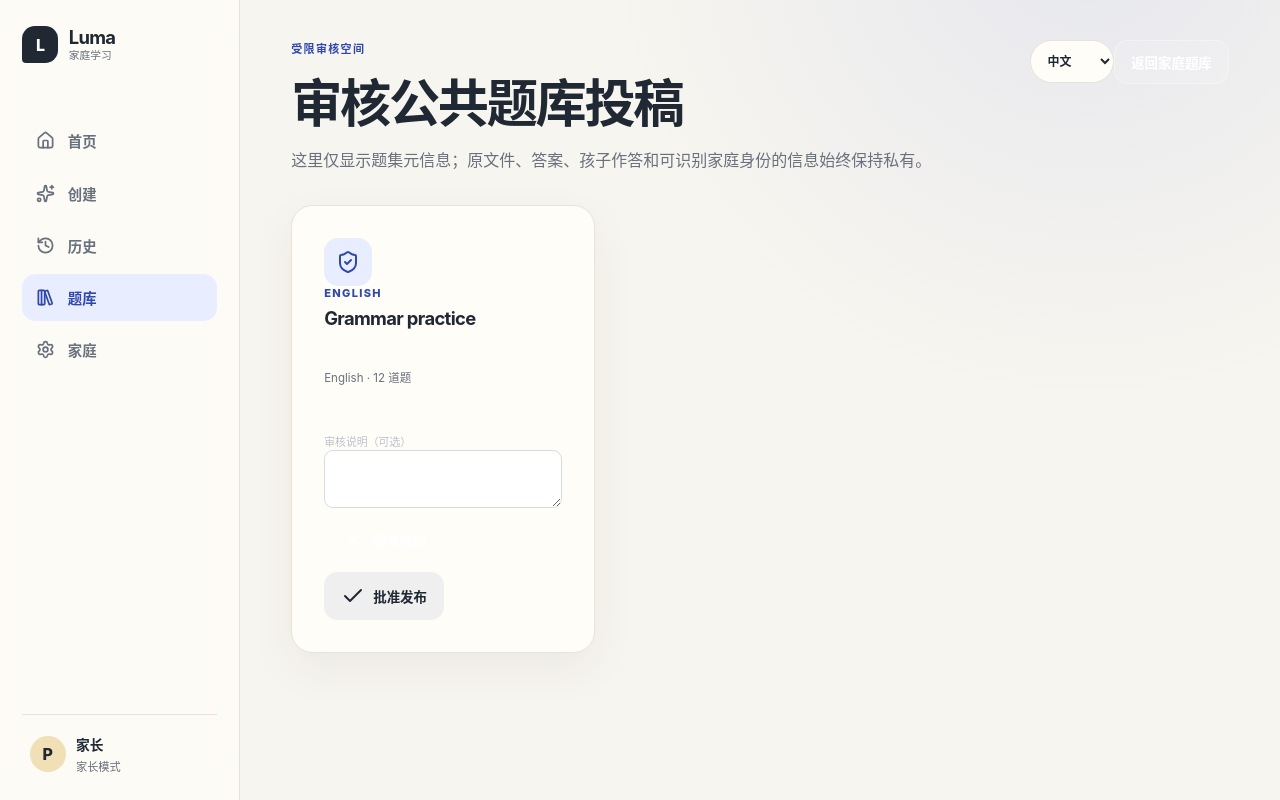
Test case: LibraryReviewPage › only presents reviewer-safe metadata and approves once
Expected: the heading "Grammar practice" is shown, [324,307,476,329]
Expected: the text "English · 12 道题" is shown, [324,371,411,385]
Type "适合公开。" into the text box labelled "审核说明（可选）" at (443, 479), box [324,450,562,508]
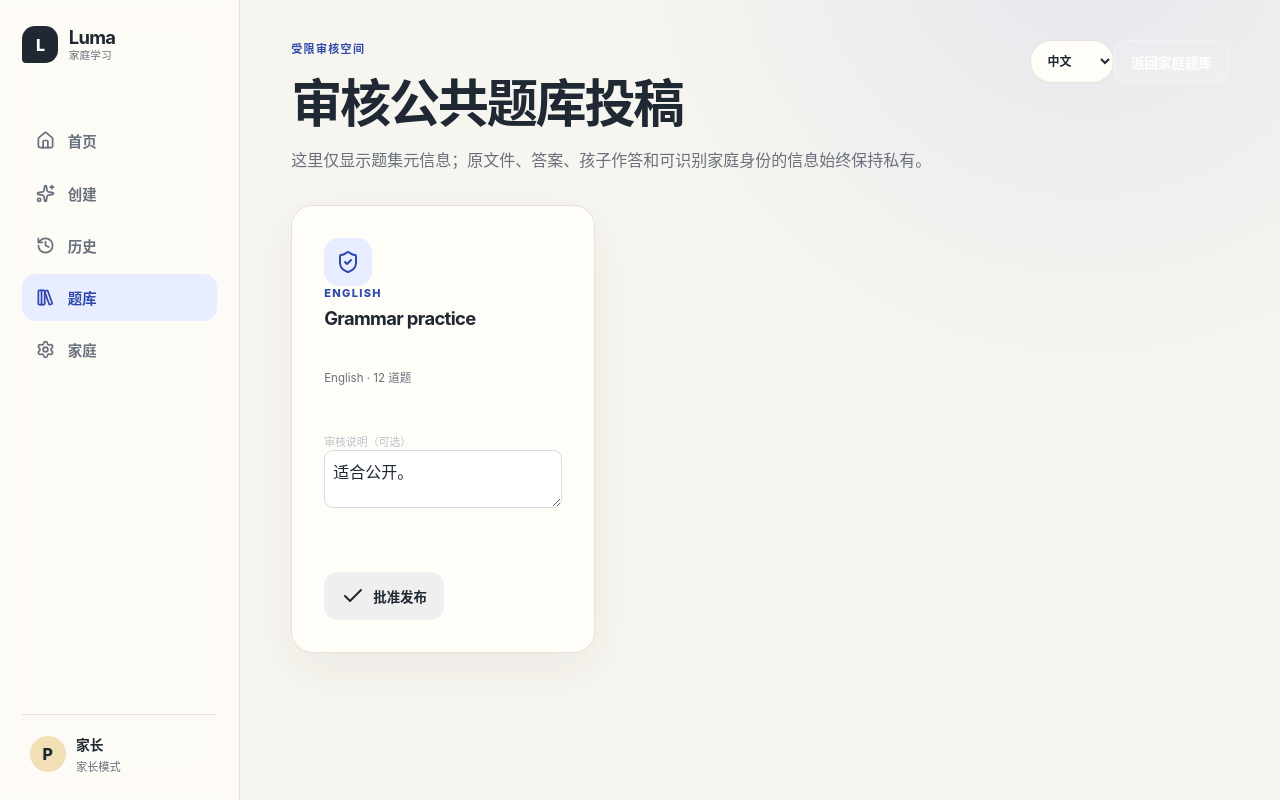
Click the button "批准发布" at (384, 596), box [324,572,444,620]
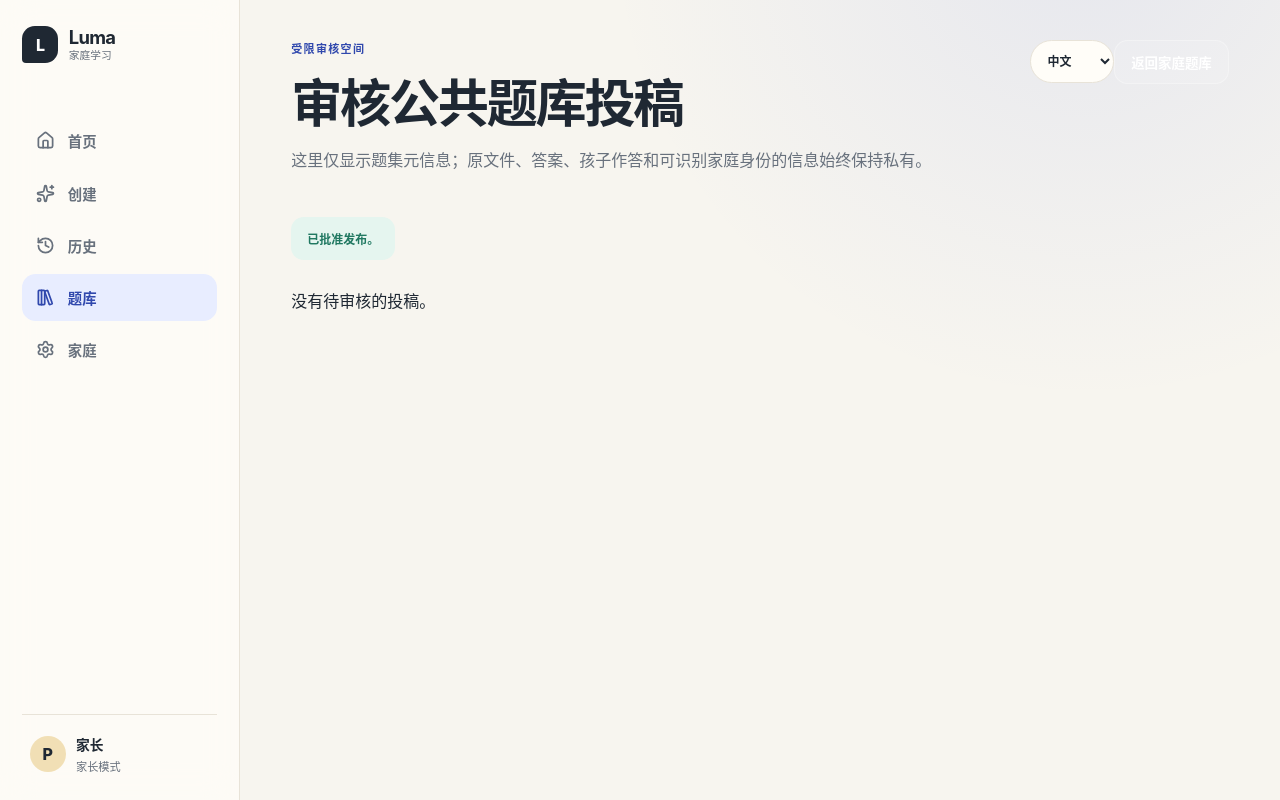
Now the text "已批准发布。" is shown, box [291,217,395,260]
Now the heading "Grammar practice" is gone
